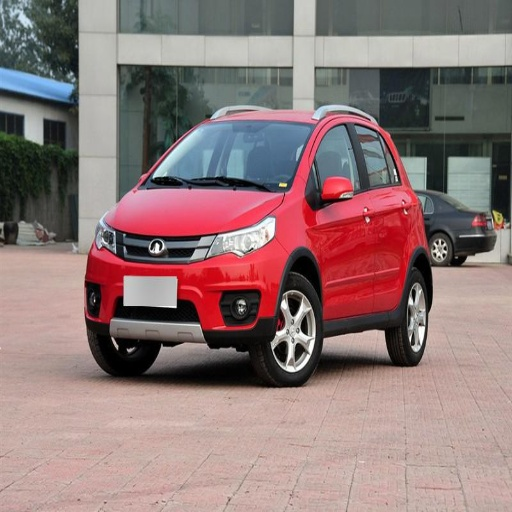front_bumper: (85, 230, 286, 342)
front_glass: (138, 119, 312, 192)
front_left_door: (310, 116, 375, 318)
trunk: (414, 194, 453, 249)
